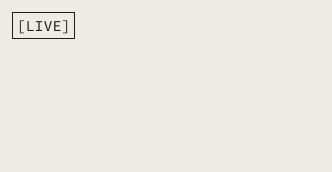
Test: TextButton › exposes aria-pressed and toggles it
Step 1. Click the button "[LIVE]" → {"x": 44, "y": 26}, box [12,12,75,39]
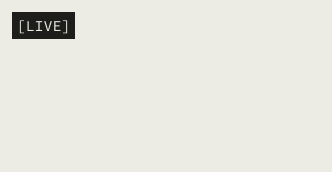
Check: the button "[LIVE]" is pressed, box [12,12,75,39]
